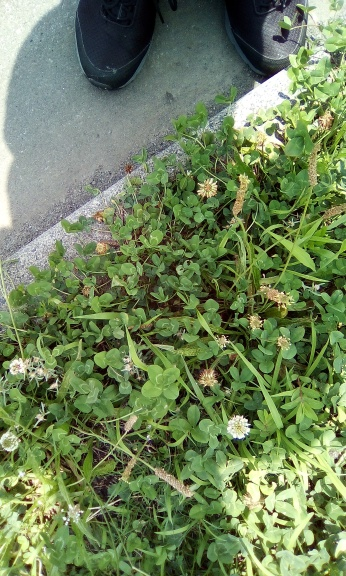4leaf: (141, 364, 181, 401)
